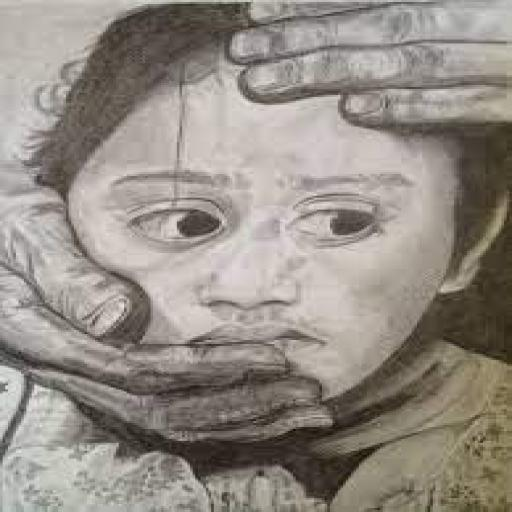person: (30, 1, 512, 512)
